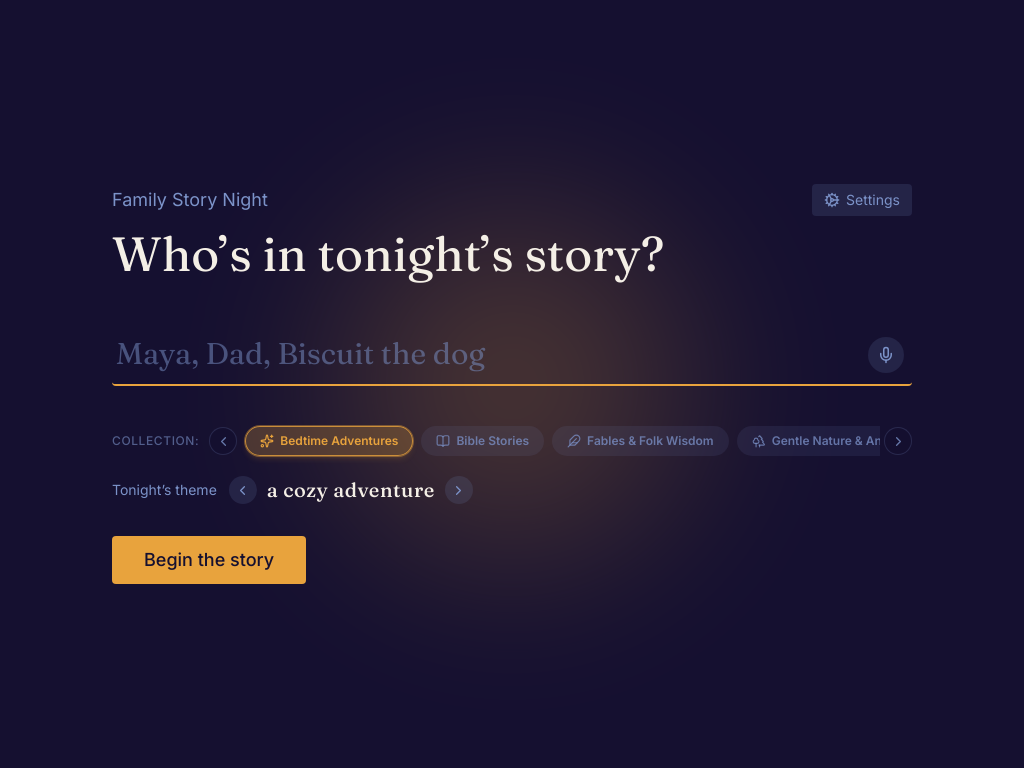
Test: Fire TV Remote & Gamepad Controller Support › Gamepad B button (keyCode 8) navigates back to setup from settings screen
Step 1. Click the button with aria-label "Parent Settings" → (862,200), box top-left (812, 184), bottom-right (912, 216)
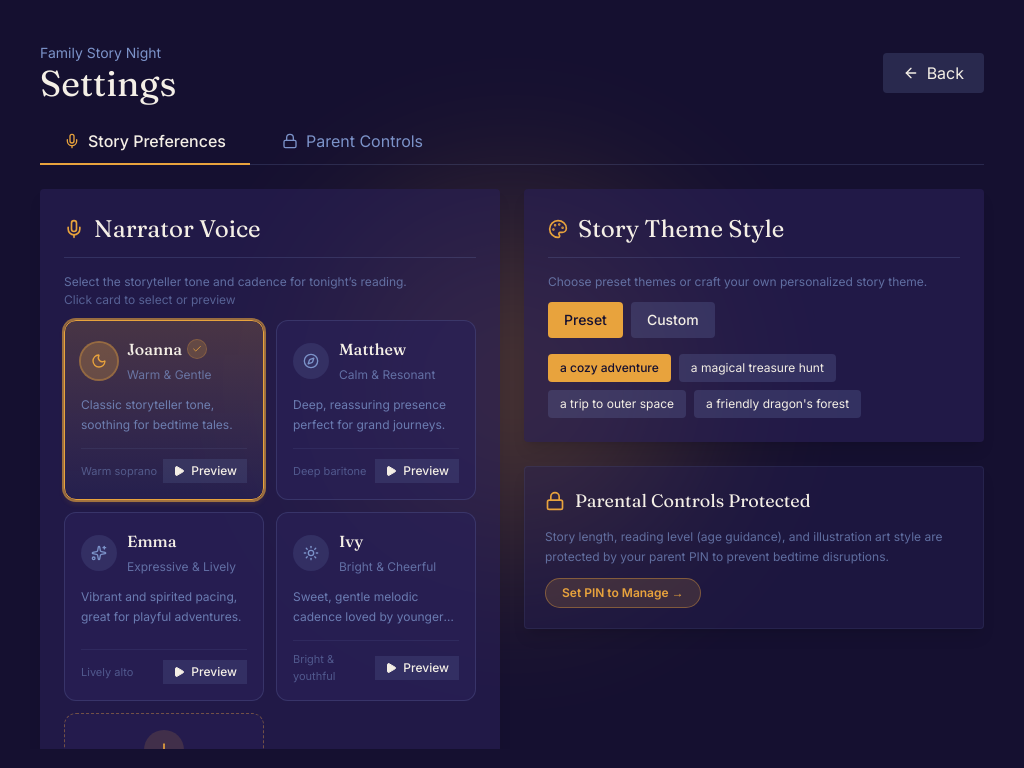
Expected: the heading "Settings" is shown, top-left (40, 63), bottom-right (176, 103)
// Press Gamepad B button (keyCode 8 / Backspace)
Step 2. Press Backspace
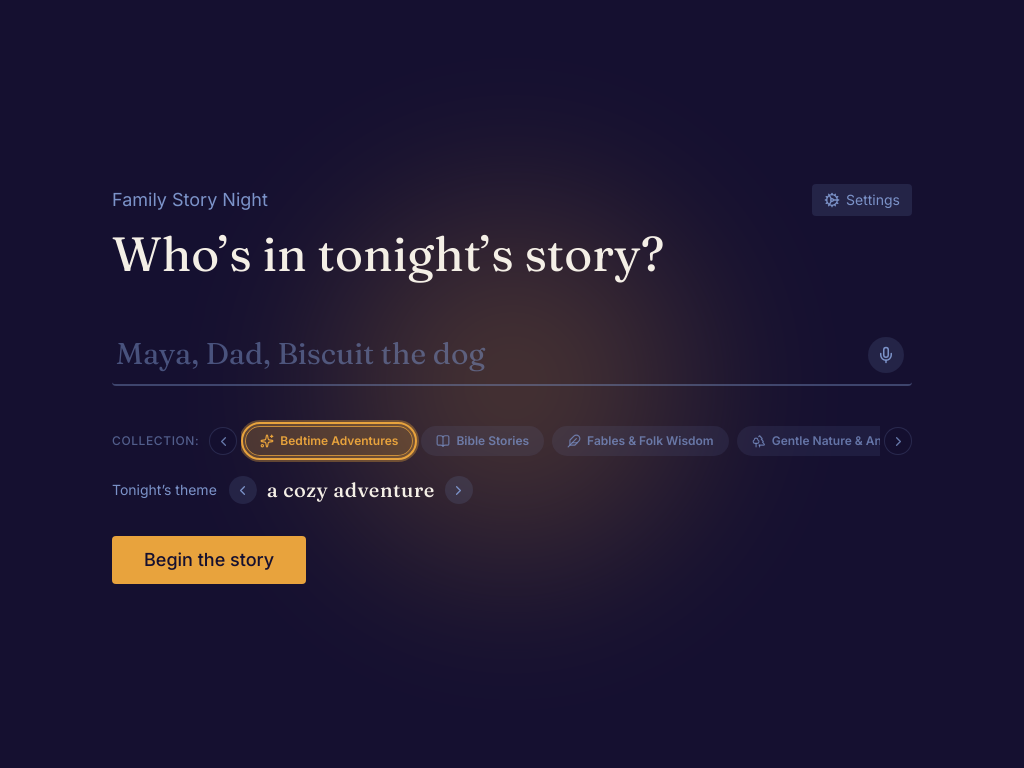
Expected: the field with placeholder "Maya, Dad, Biscuit the dog" is shown, top-left (112, 324), bottom-right (912, 386)
